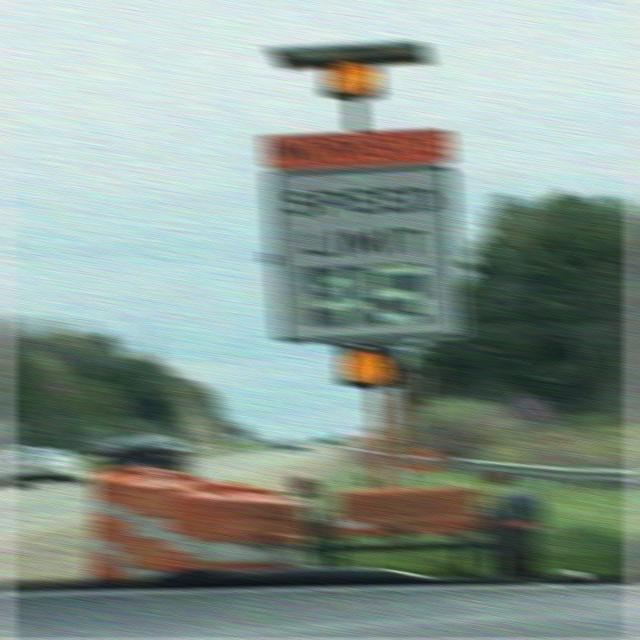speedLimit45: (264, 164, 469, 343)
